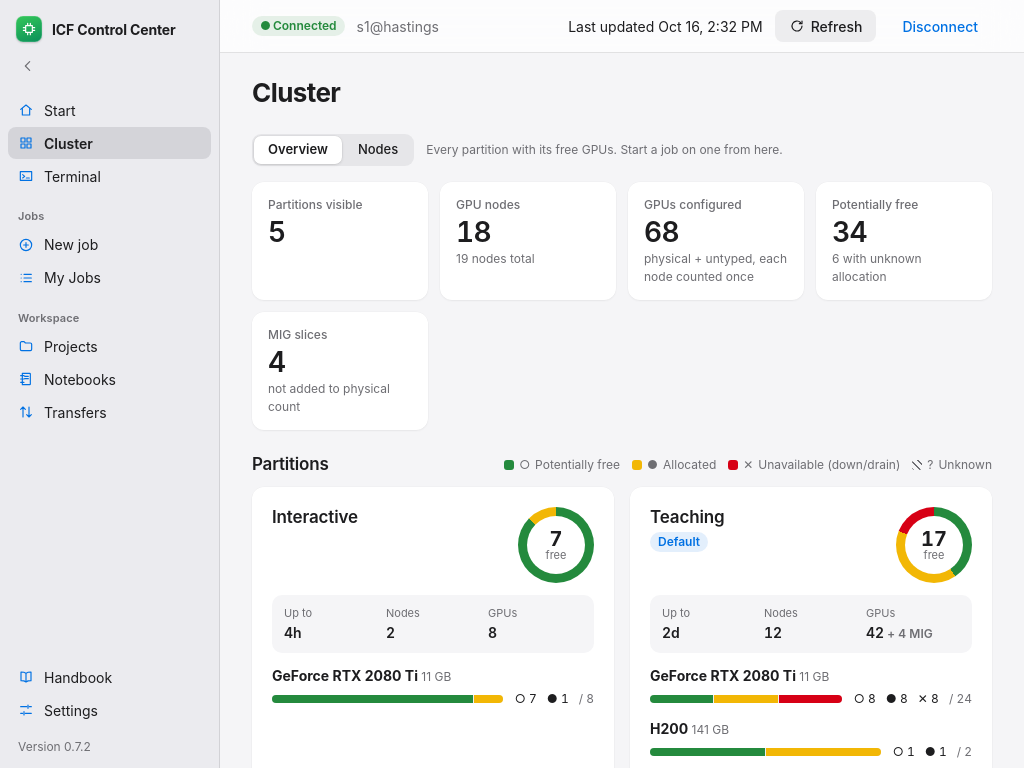
Scenario: Terminal screen › saves your own command, keeps it after a reload and removes it
Click the button "Terminal".
click(110, 176)  # box left=8, top=160, right=211, bottom=192
(page scrolled)
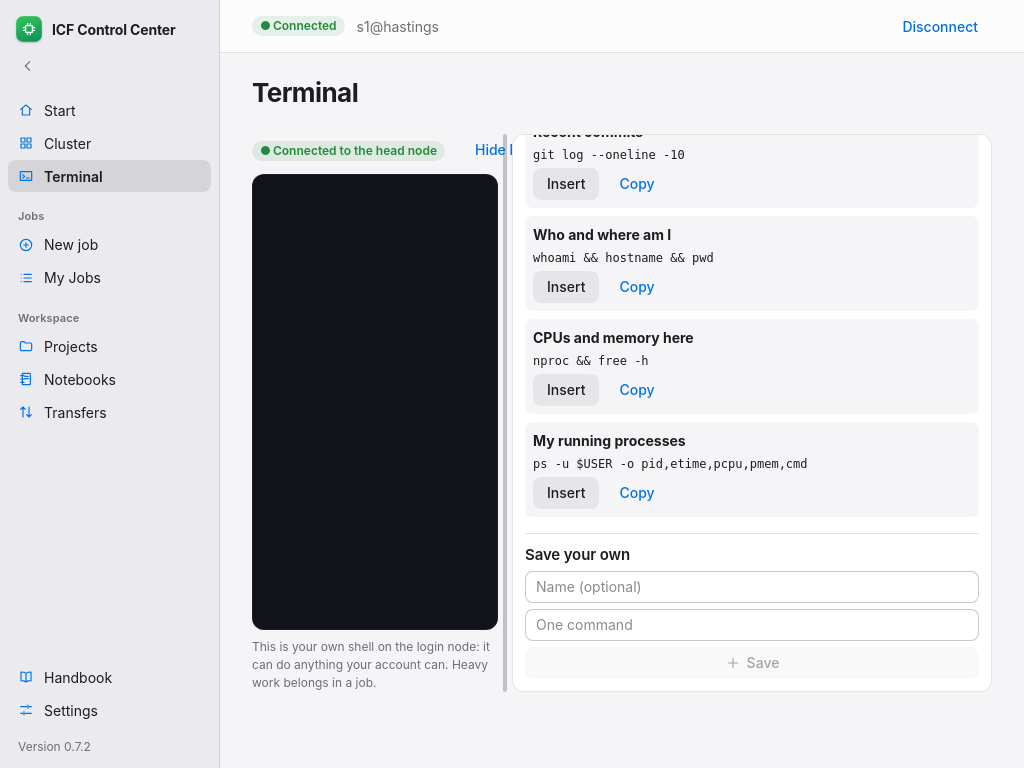
Expected: the text "Connected to the head node" is shown, left=273, top=142, right=437, bottom=158
Type "My sync" into the field labelled "Name".
click(752, 587); type("My sync")  # box left=525, top=571, right=979, bottom=603
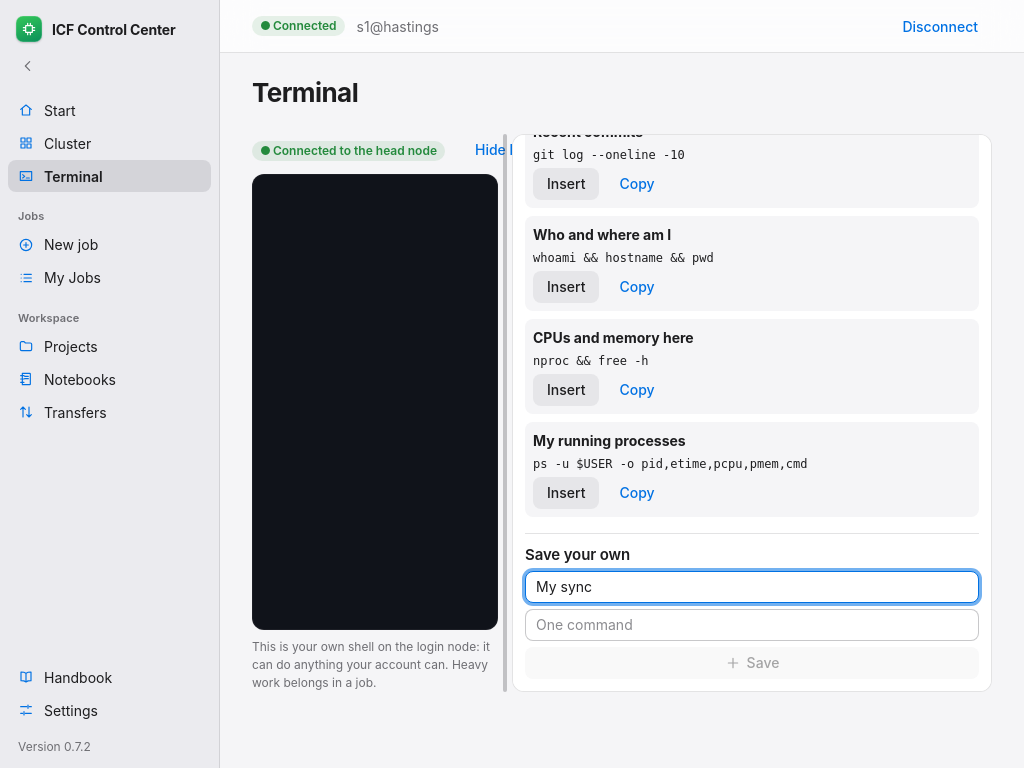
Type "rsync -a a/ b/" into the field named "Command to save".
click(752, 625); type("rsync -a a/ b/")  # box left=525, top=609, right=979, bottom=641
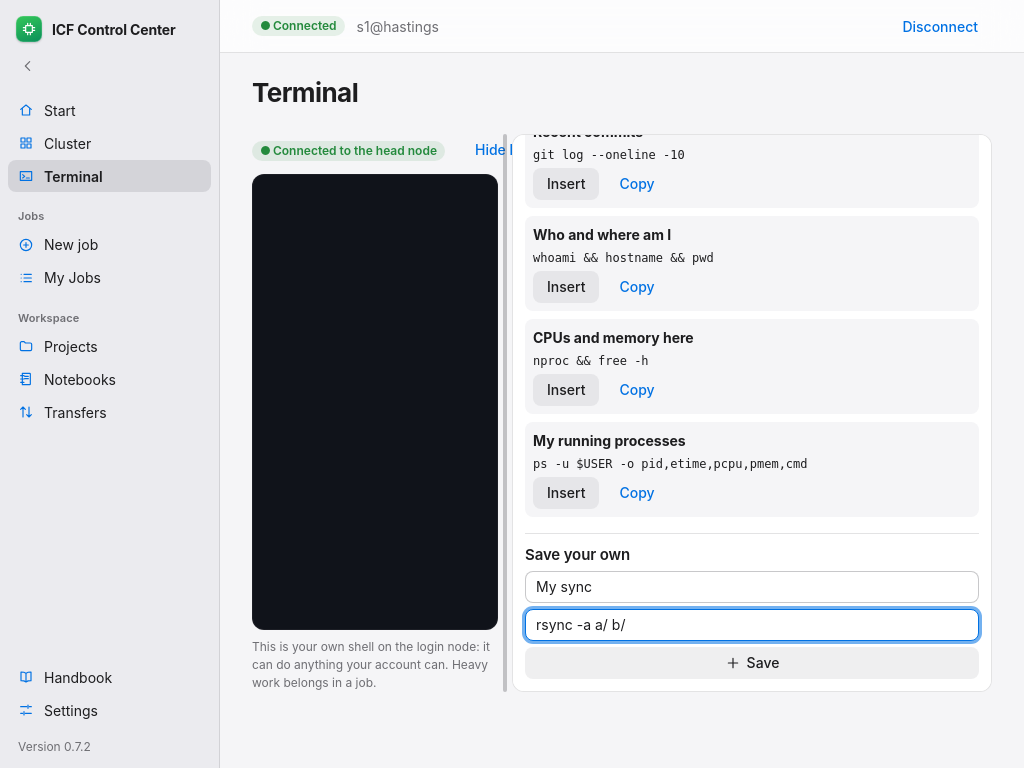
Click the button "Save".
click(752, 663)  # box left=525, top=647, right=979, bottom=679
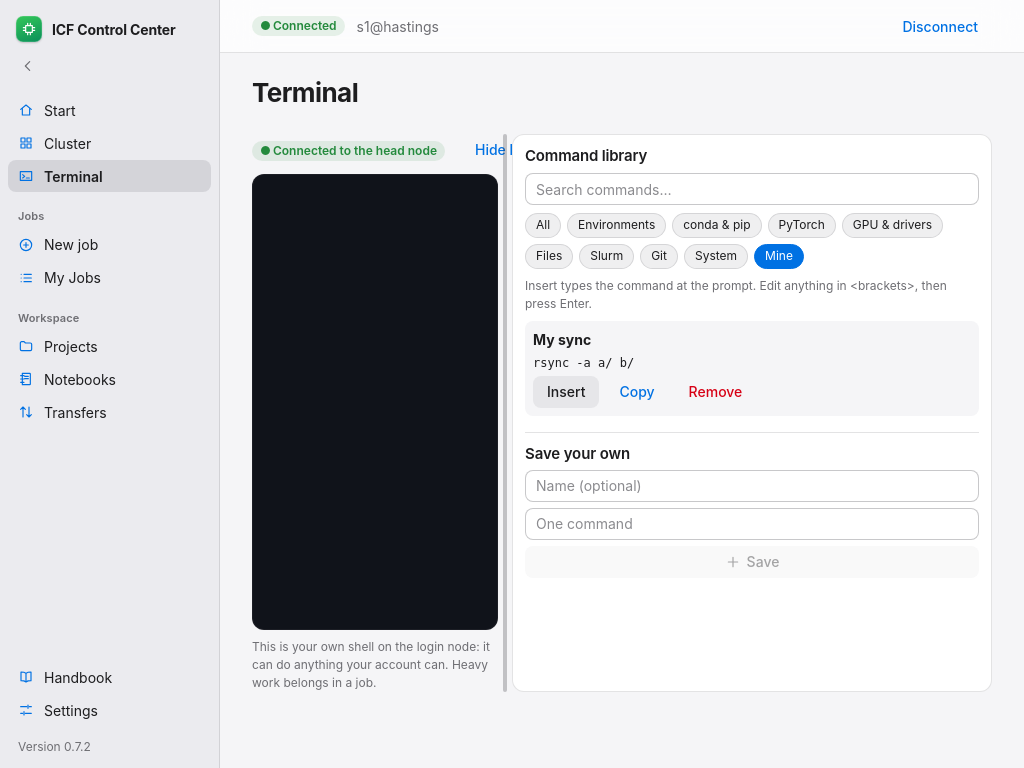
Expected: the text "My sync" is shown, left=533, top=329, right=591, bottom=350
Click the button with aria-label "Remove My sync".
click(715, 392)  # box left=675, top=376, right=756, bottom=408
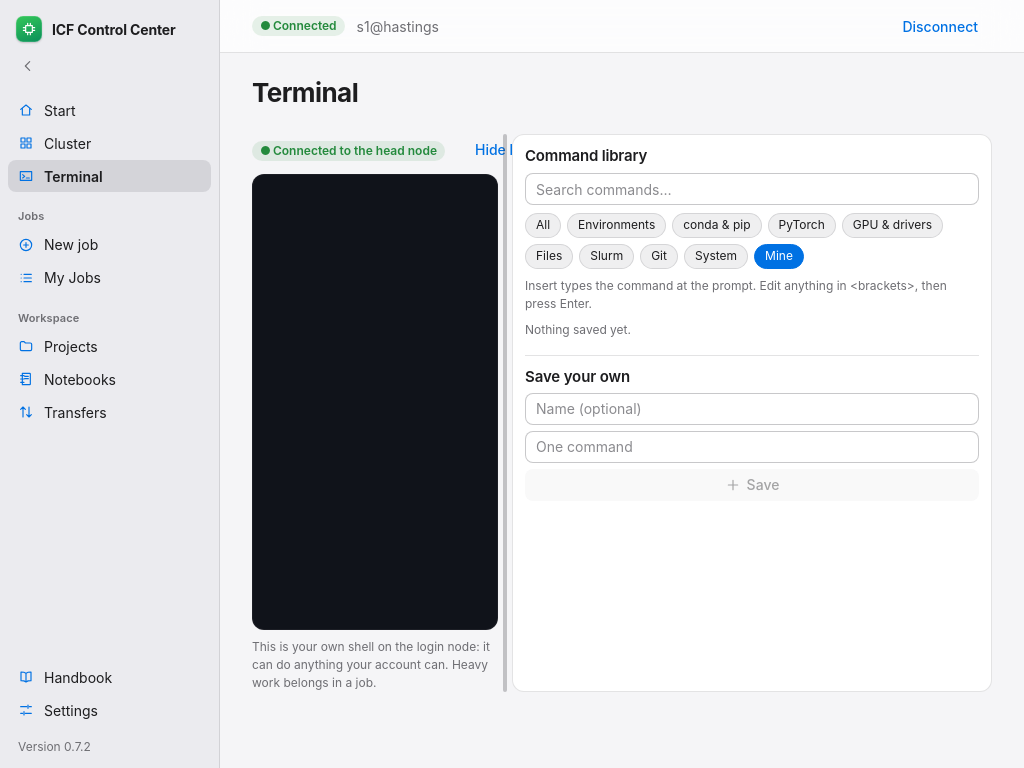
Expected: the list item "Nothing saved yet." is shown, left=525, top=322, right=631, bottom=337
